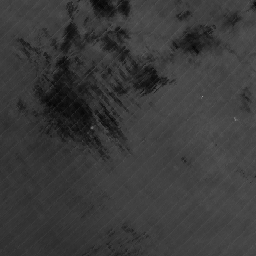Target: (88, 124, 96, 131)
